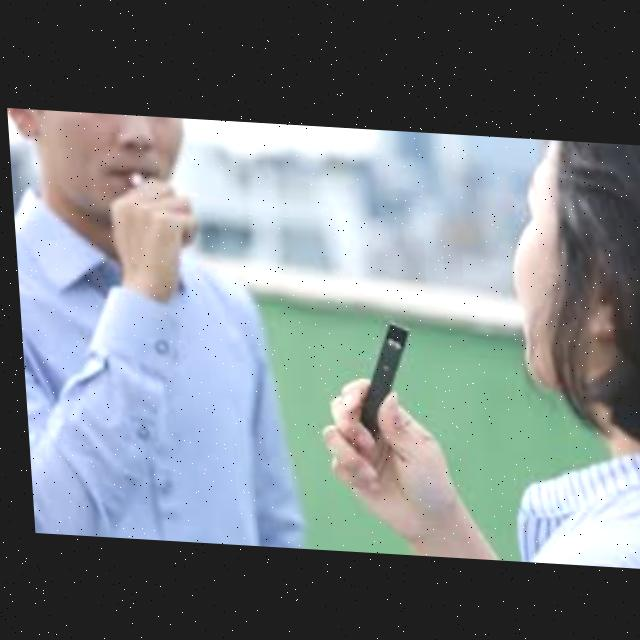vape: (348, 314, 412, 439)
